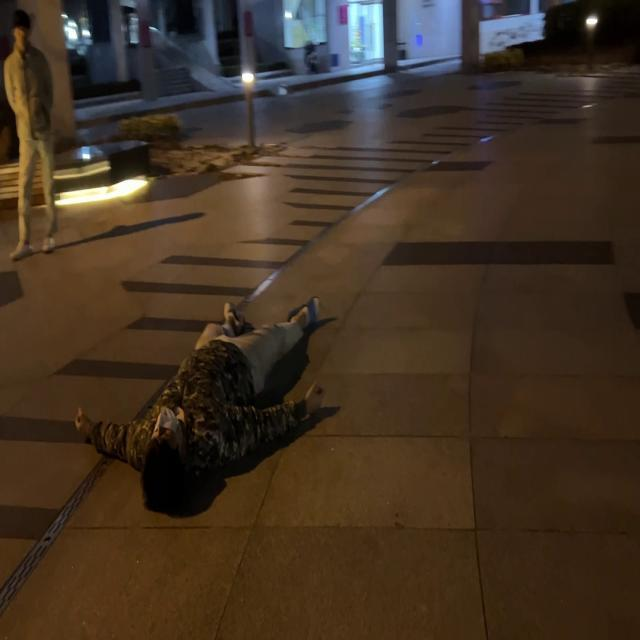Fall: (74, 298, 324, 513)
Stand: (3, 9, 57, 260)
